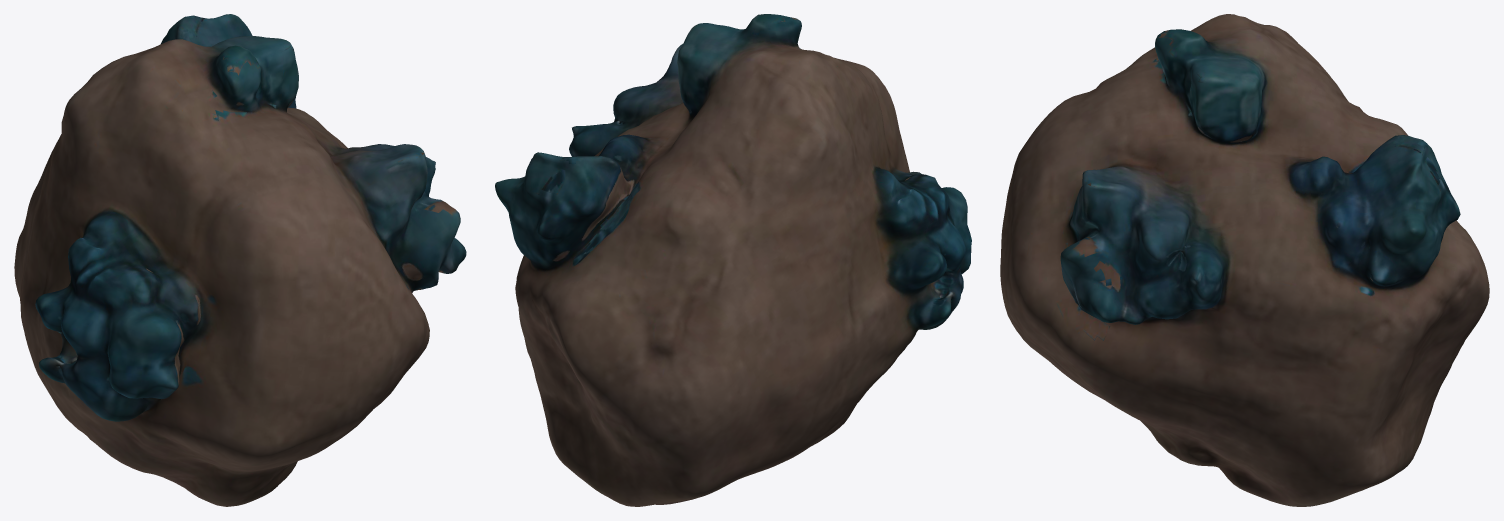
The model's file is 618ccd0e1e98_a_cluster_of_gems_s.fbx.
3 views of the same model, side by side, from view 1: azimuth 30°, elevation 25°; view 2: azimuth 150°, elevation 25°; view 3: azimuth 270°, elevation 25° (orthographic). The views are drawn at different scales.
Parts seen in each view (by area): view 1: mesh; view 2: mesh; view 3: mesh.
Part boxes in pixels (x1=…): mesh: x1=14, y1=14, x2=466, y2=506; mesh: x1=495, y1=14, x2=971, y2=506; mesh: x1=1000, y1=14, x2=1489, y2=506.
Bounding box in the file's own units: 86.3 × 99.87 × 98.86.
